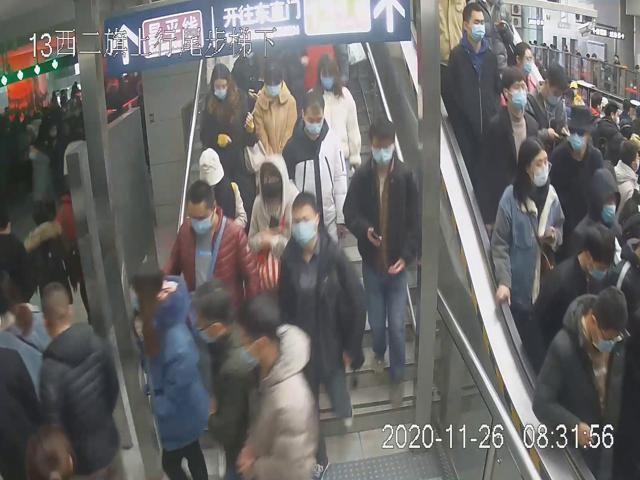person: (278, 193, 366, 468), (342, 120, 419, 408), (159, 177, 261, 327), (488, 136, 565, 324), (281, 89, 351, 256), (478, 64, 542, 236), (442, 3, 501, 173), (196, 60, 255, 187), (307, 51, 361, 171), (247, 154, 303, 255), (253, 60, 298, 157)
